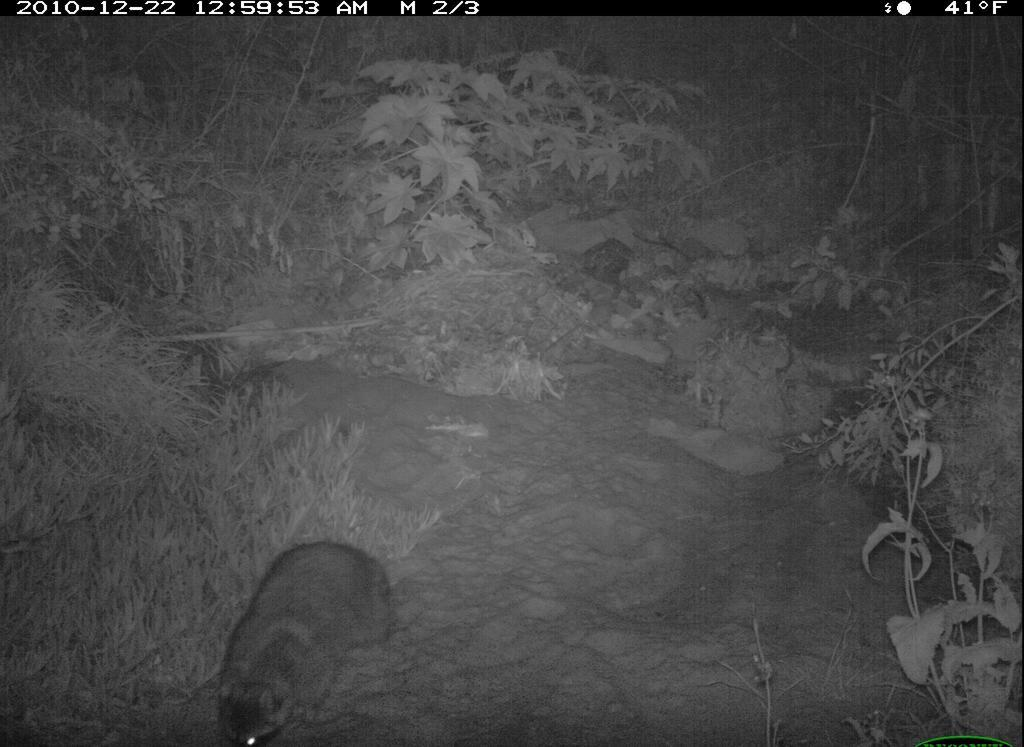raccoon: (204, 524, 402, 747)
